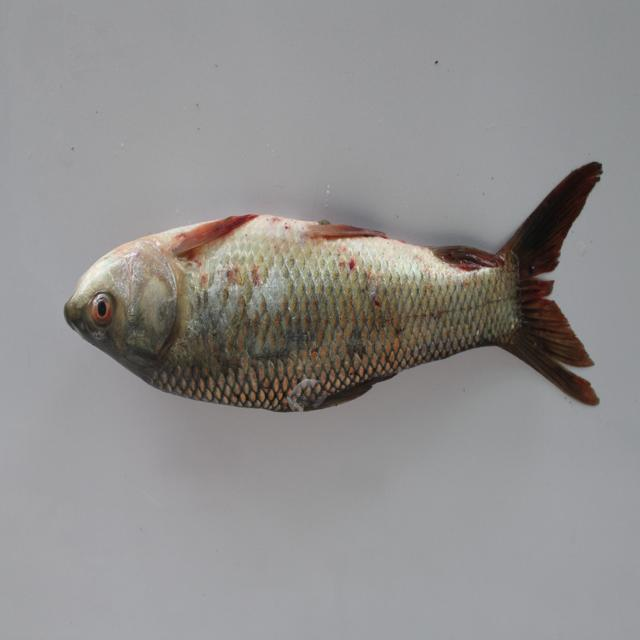Rohu: (45, 179, 619, 421)
